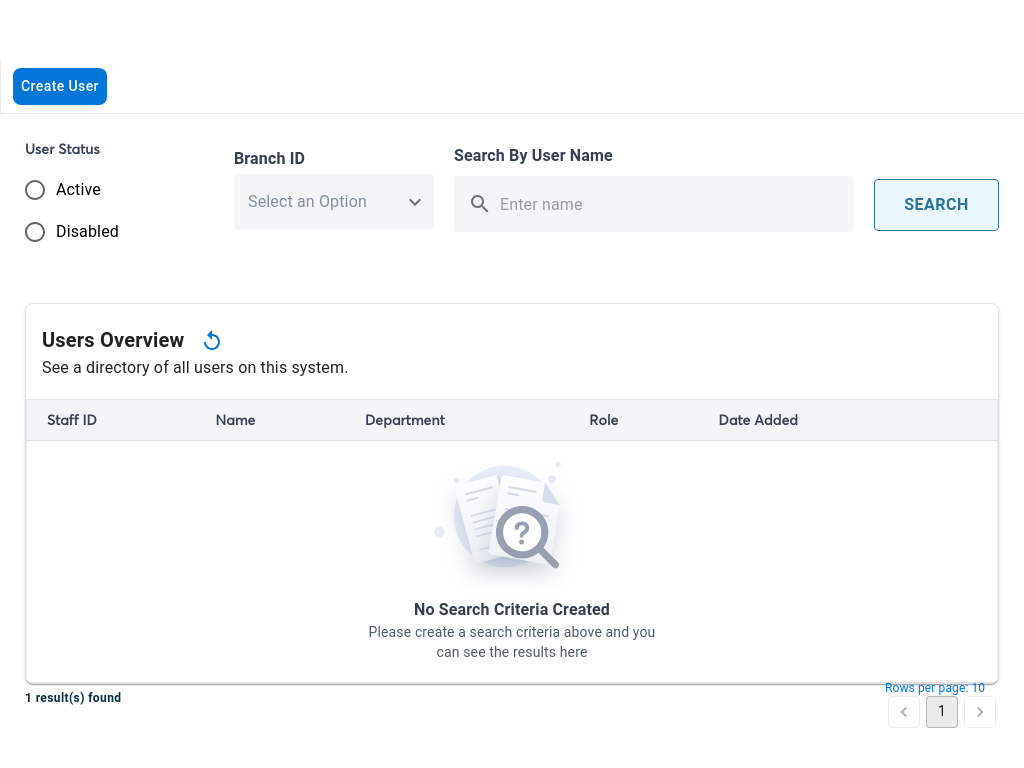
Scenario: Users Component › renders table with user data and branches
Click the button with test id "action-button": (936, 204) [874,178,999,230]
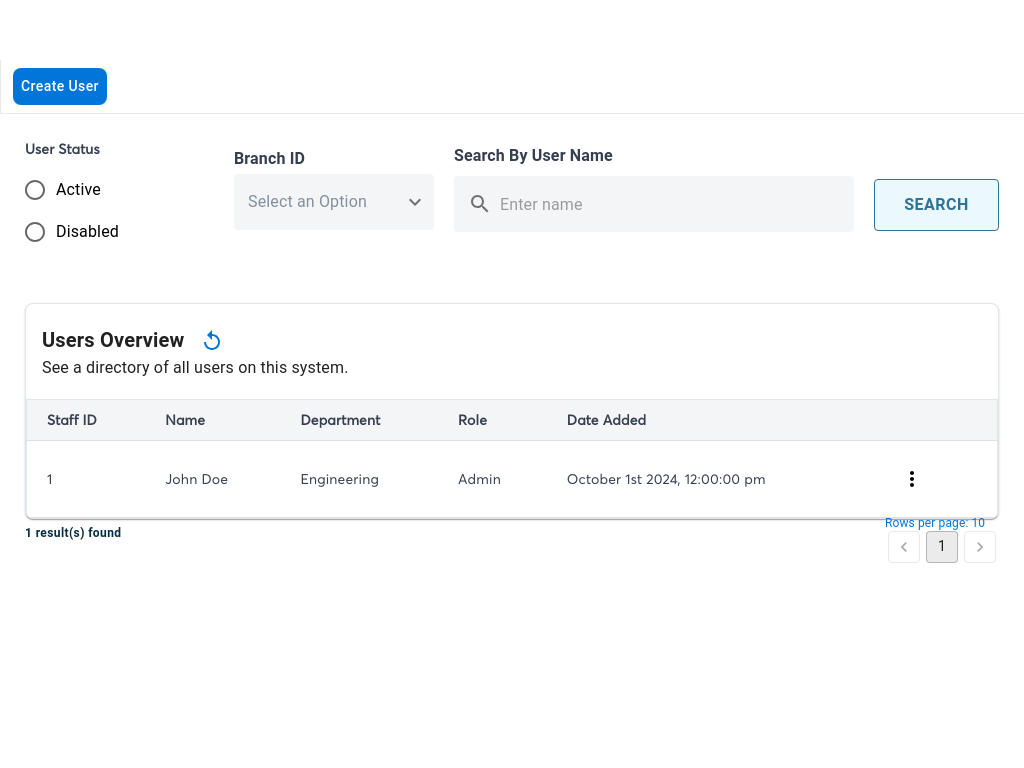
Check: the text "Admin" is shown, box [438,440,547,517]
